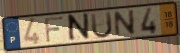4: (23, 17, 42, 47), (140, 7, 159, 36)
F: (44, 15, 65, 45)
N: (68, 12, 91, 44), (113, 8, 137, 38)
U: (89, 10, 114, 41)
